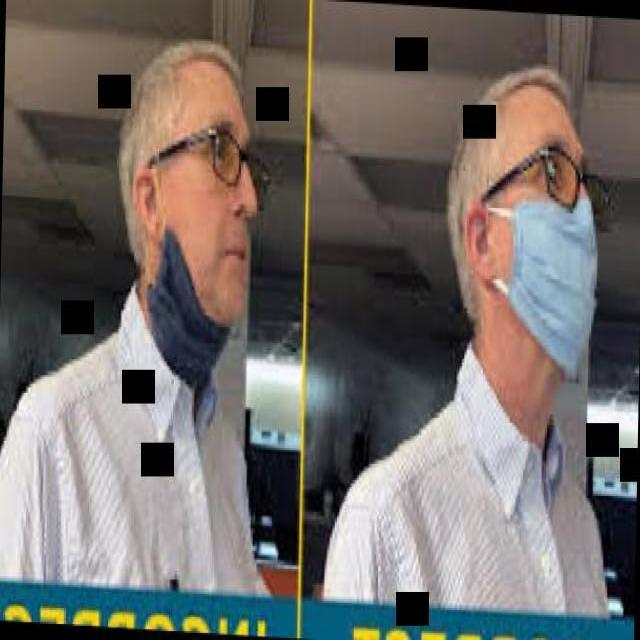hairnet: (145, 183, 259, 383)
